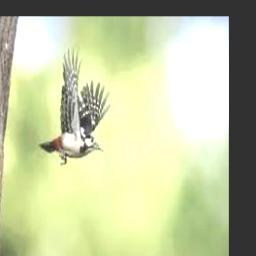Woodpecker: (40, 44, 112, 165)
